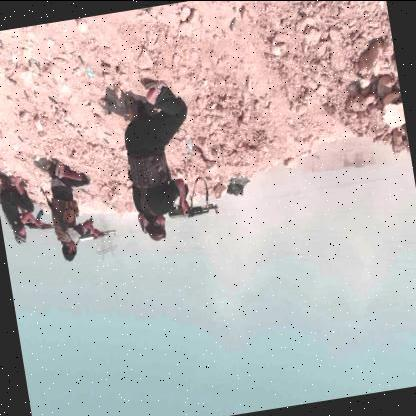rifle: (161, 189, 219, 226), (70, 212, 118, 247), (17, 203, 56, 240)
